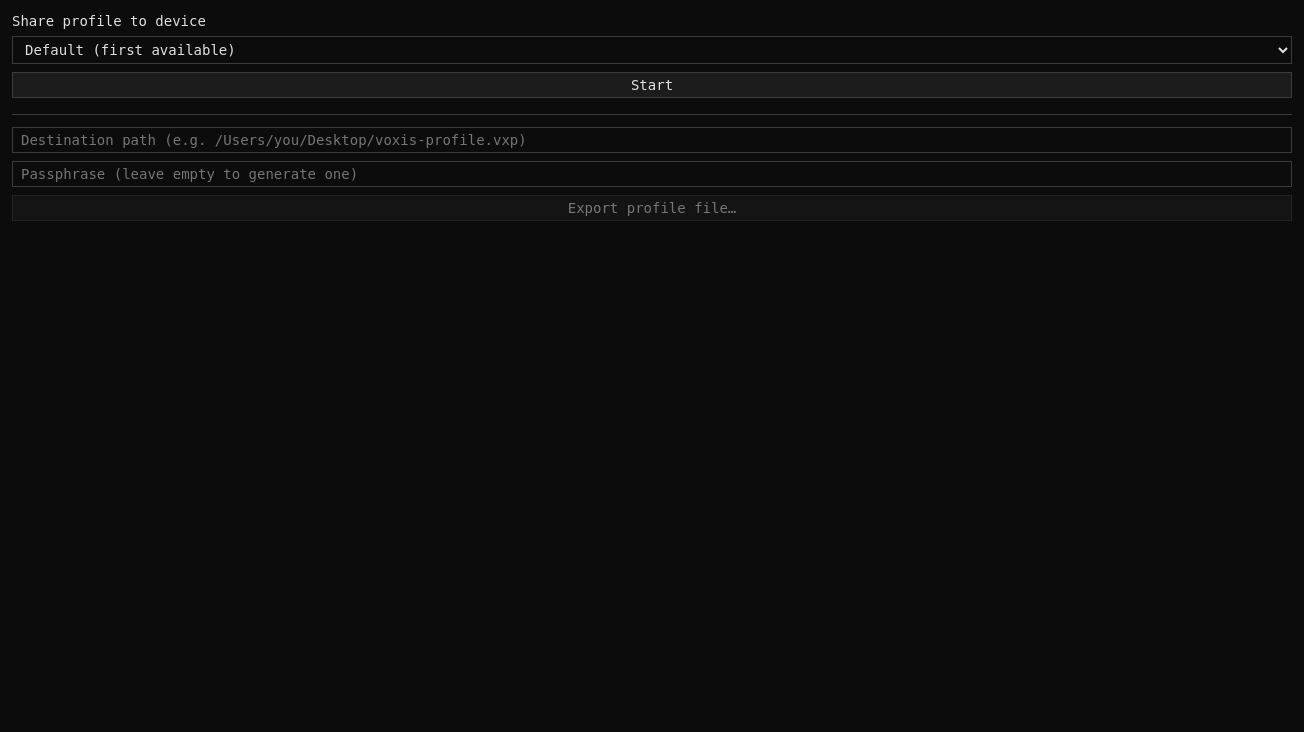
Test: ProfileShare › the delivered event flips status to Delivered
Click the button with test id "profile-share-start-button" at (652, 85), box [12,72,1292,98]
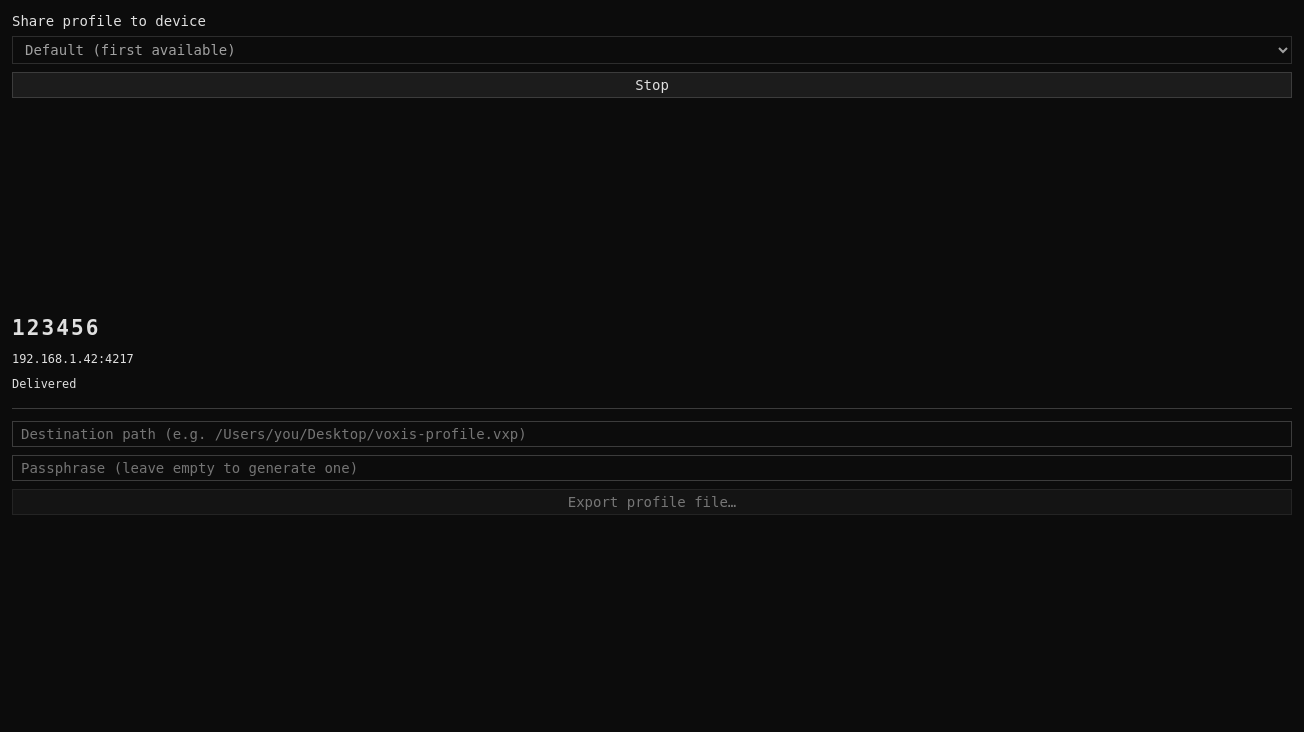
Now the message with test id "profile-share-status" reads "Delivered", box [12,377,76,391]
